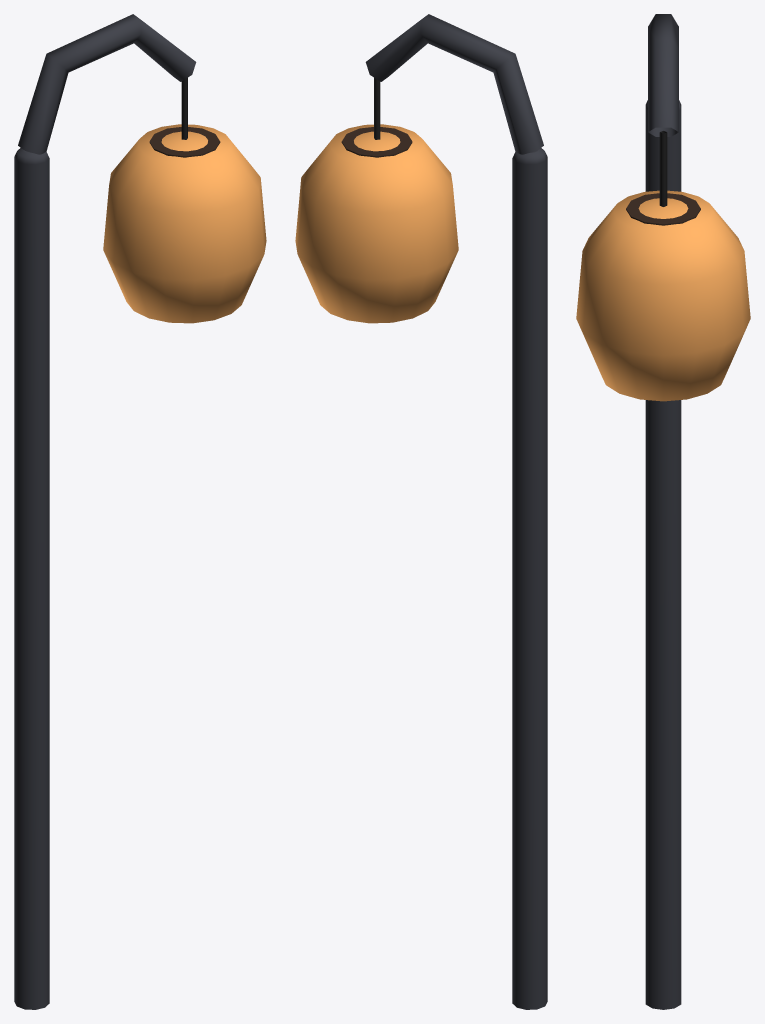
File: furn_od_lantern_post.glb
The picture shows the model from 3 angles, left to right: view 1: azimuth 30°, elevation 25°; view 2: azimuth 150°, elevation 25°; view 3: azimuth 270°, elevation 25°; orthographic projection. The views are drawn at different scales.
Parts seen in each view (by area): view 1: furn_od_lantern_post_main, furn_od_lantern_post_glow; view 2: furn_od_lantern_post_main, furn_od_lantern_post_glow; view 3: furn_od_lantern_post_main, furn_od_lantern_post_glow.
Boxes of the visible parts, left/top/right/bottom form: furn_od_lantern_post_main: left=14, top=14, right=220, bottom=1009; furn_od_lantern_post_glow: left=103, top=124, right=266, bottom=323; furn_od_lantern_post_main: left=341, top=14, right=547, bottom=1009; furn_od_lantern_post_glow: left=295, top=124, right=458, bottom=323; furn_od_lantern_post_main: left=626, top=14, right=700, bottom=1009; furn_od_lantern_post_glow: left=576, top=190, right=750, bottom=401.
Bounding box in the file's own units: 0.47 × 1.8 × 0.28.
